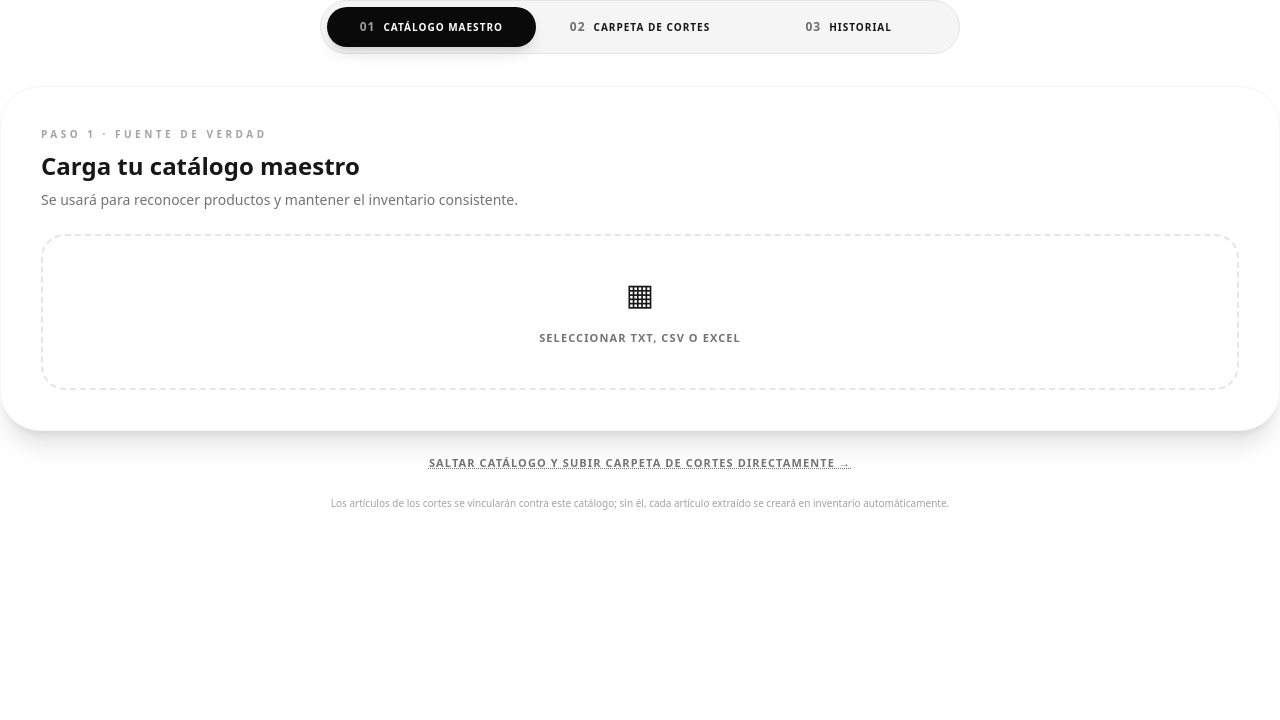
Scenario: cortes · orquestador › saltar catálogo lleva a la carpeta de cortes
Click the button "Saltar catálogo y subir carpeta de cortes directamente →".
click(640, 463)  # box x1=429 y1=455 x2=851 y2=472
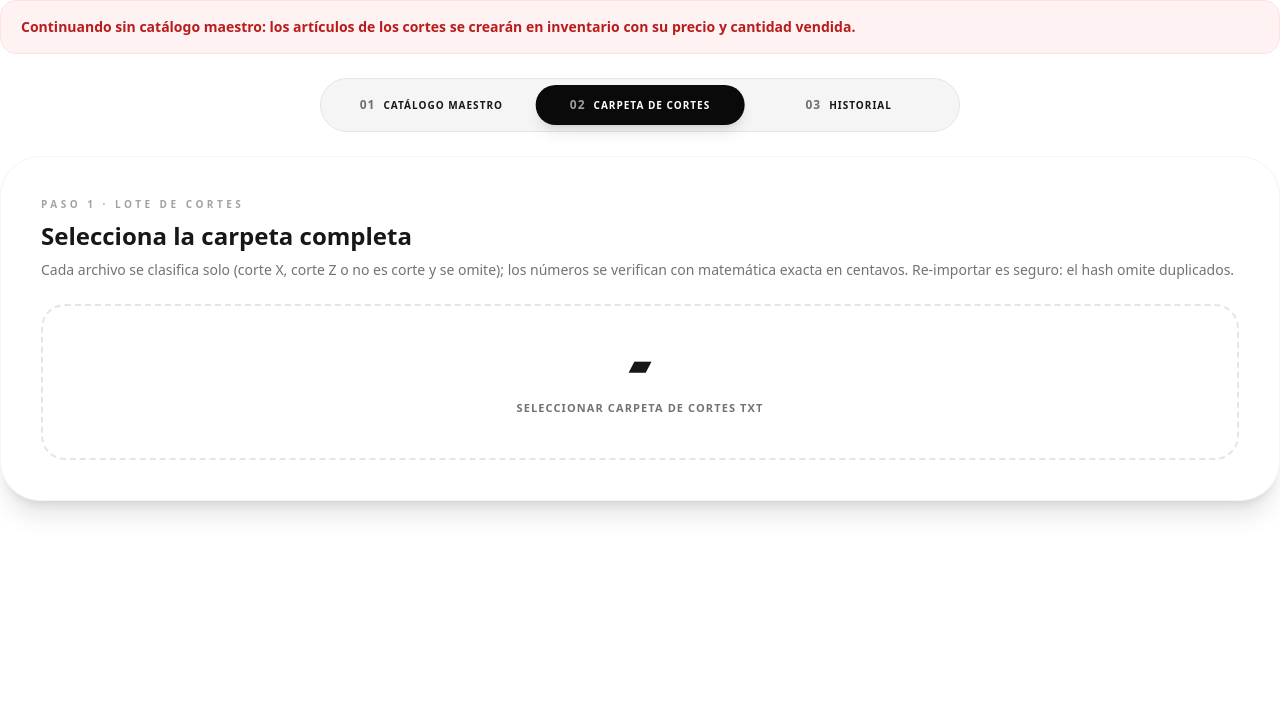
Now the text "Seleccionar carpeta de cortes TXT" is shown, box x1=517 y1=400 x2=763 y2=415
